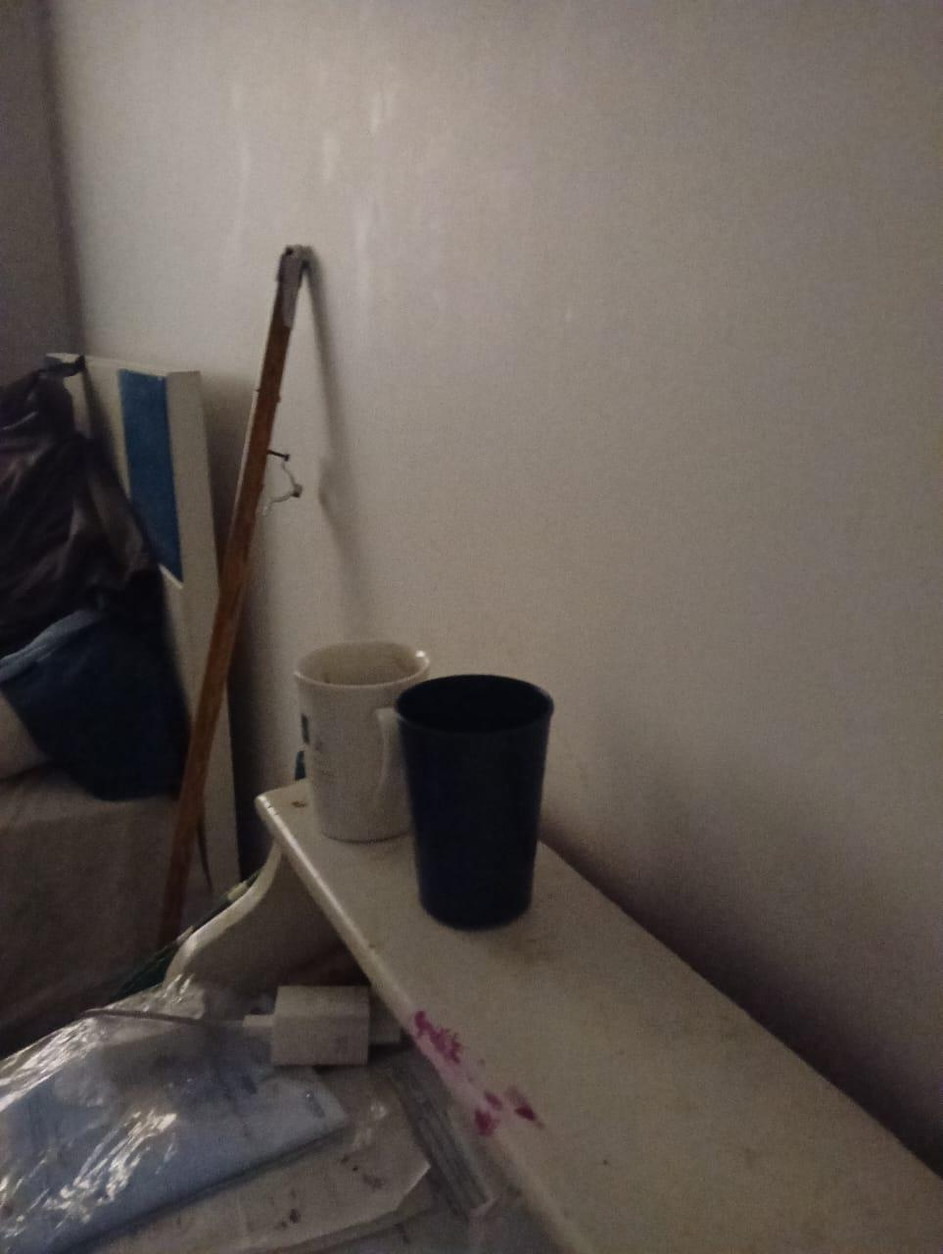cup: (396, 674, 552, 928), (295, 641, 429, 841)
